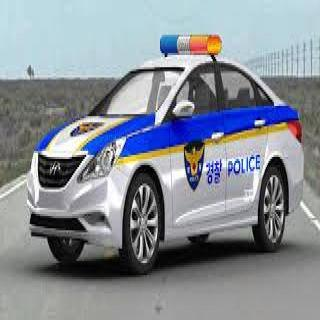Police_car: (28, 37, 304, 265)
